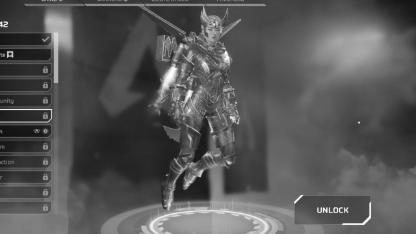Target: (167, 13, 245, 184)
